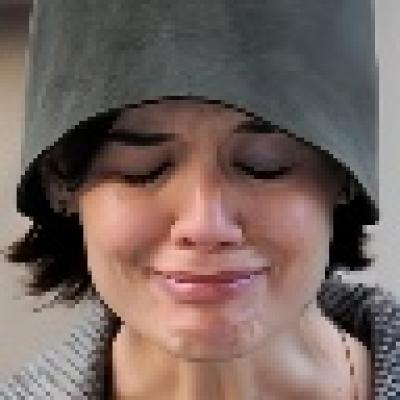sad: (80, 107, 318, 346)
